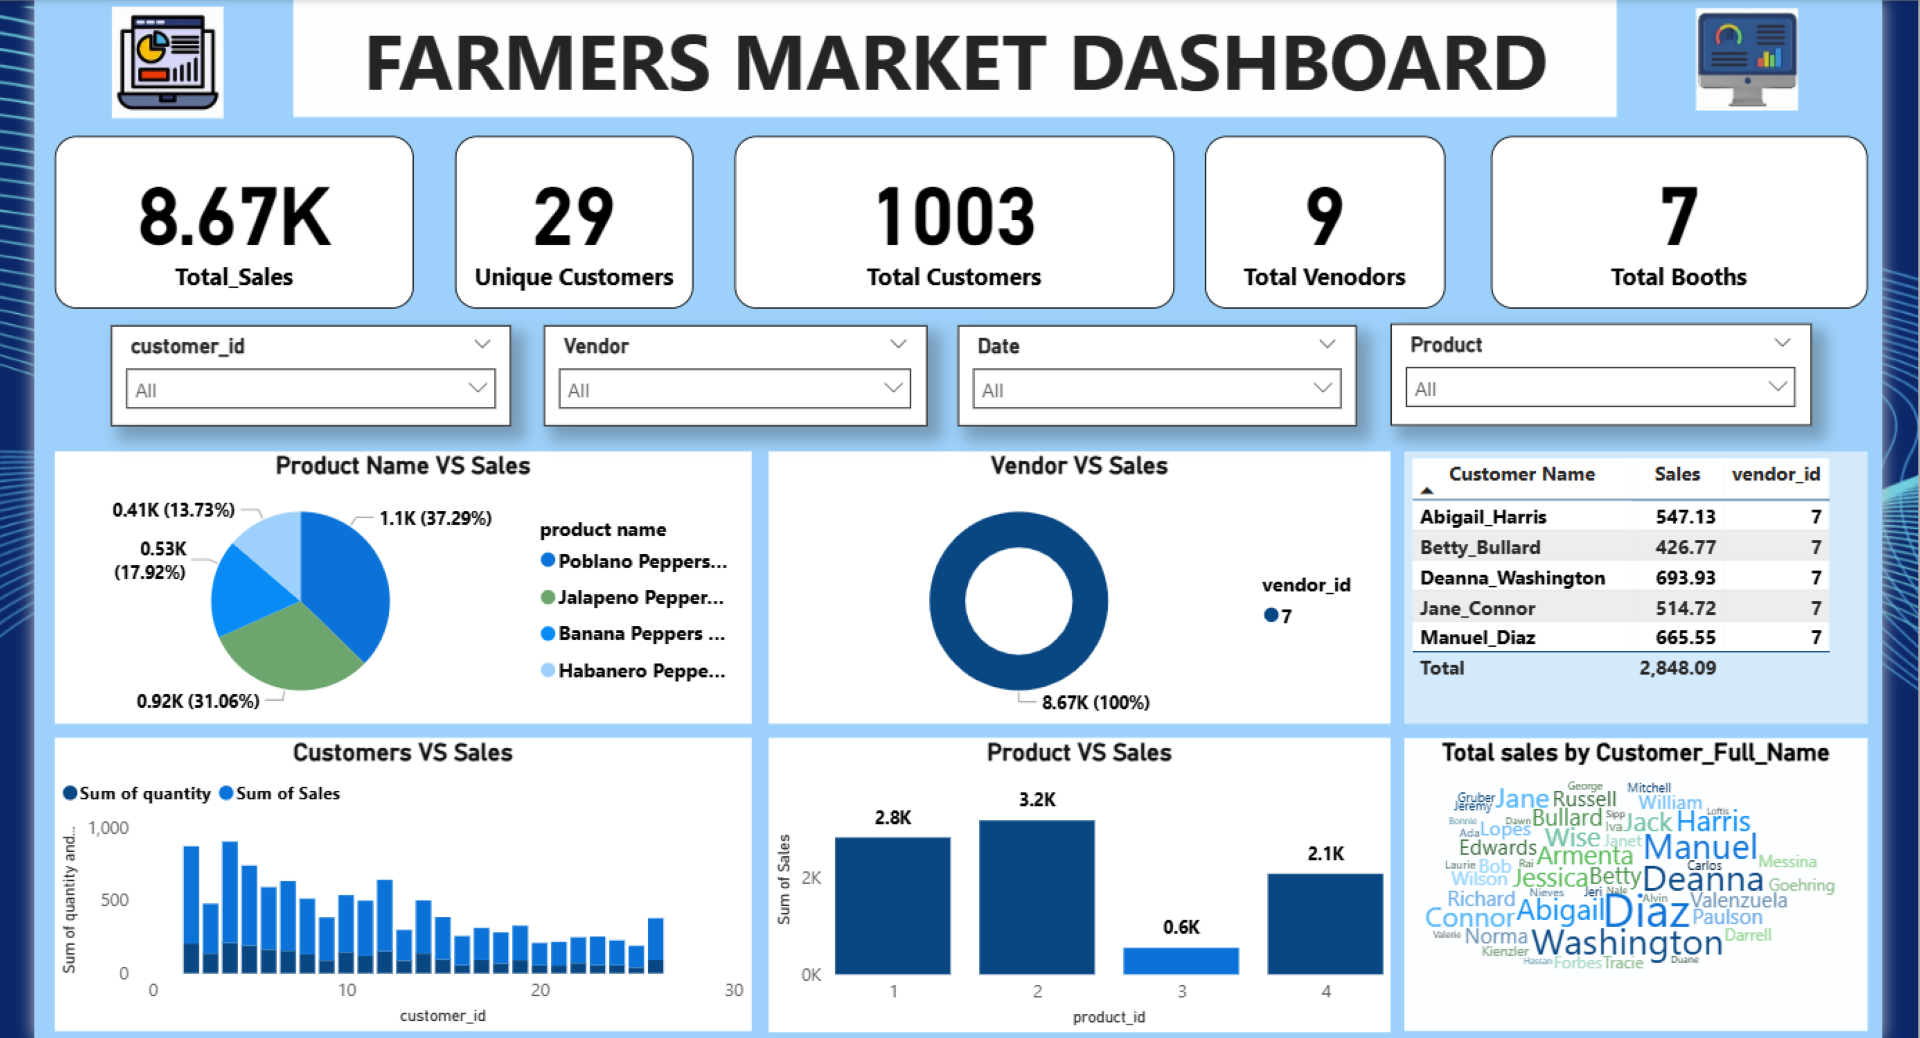

The dashboard page shown, as its layout file describes it:
{"tool":"powerbi","page":{"name":" Sales wise Analysis","canvas":[1280,720],"ordinal":1},"visuals":[{"type":"columnChart","title":"Customers VS Sales","fields":{"Y":["customer_purchases.quantity","customer_purchases.Sales"],"Category":["customer_purchases.customer_id"]},"box":[14.2,511.2,482.9,203.1],"z":0},{"type":"clusteredColumnChart","title":"Product VS Sales","fields":{"Y":["customer_purchases.Sales"],"Category":["product.product_id"]},"box":[508.9,511.2,431,204.3],"z":1000},{"type":"pieChart","title":"Product Name VS Sales","fields":{"Category":["product.product_name"],"Y":["customer_purchases.quantity"]},"box":[14.2,312.9,482.9,188.9],"z":2000},{"type":"donutChart","title":"Vendor VS  Sales","fields":{"Category":["customer_purchases.vendor_id"],"Y":["customer_purchases.Sales"]},"box":[508.9,312.9,431,188.9],"z":3000},{"type":"image","box":[44.9,0,94.5,87.4],"z":4000},{"type":"image","box":[1141.7,1.2,89.7,80.3],"z":5000},{"type":"card","fields":{"Values":["customer_purchases.Total_Sales"]},"box":[14.2,94.5,249.1,119.2],"z":6000},{"type":"card","fields":{"Values":["customer_purchases.customer_id"]},"box":[291.6,94.5,165.3,119.2],"z":7000},{"type":"card","fields":{"Values":["customer_purchases.customer_id"]},"box":[485.3,94.5,304.6,119.2],"z":8000},{"type":"card","fields":{"Values":["vendor.vendor_id"]},"box":[811.1,94.5,166.5,119.2],"z":9000},{"type":"card","fields":{"Values":["vendor_booth_assignments.booth_number"]},"box":[1009.5,94.5,260.9,119.2],"z":10000},{"type":"textbox","box":[178.9,0,917.4,81.5],"z":11000},{"type":"tableEx","fields":{"Values":["customer.Customer_Full_Name","customer_purchases.Sales","vendor.vendor_id"]},"box":[949.3,312.9,321.1,188.9],"z":12000},{"type":"slicer","fields":{"Values":["customer_purchases.customer_id"]},"box":[53.1,225.5,277.5,69.7],"z":13000},{"type":"slicer","fields":{"Values":["customer_purchases.vendor_id"]},"box":[353,225.5,265.7,69.7],"z":14000},{"type":"slicer","fields":{"Values":["vendor_inventory.market_date"]},"box":[639.9,225.5,276.3,69.7],"z":15000},{"type":"slicer","fields":{"Values":["product.product_id"]},"box":[939.8,224.3,291.6,70.8],"z":16000},{"type":"WordCloud1447959067750","title":"Total sales by Customer_Full_Name","fields":{"Category":["customer.Customer_Full_Name"],"Values":["customer_purchases.Sales"]},"box":[949.3,511.2,321.1,203.1],"z":17000}]}

Visuals, with their boxes on the page's 1280x720 design canvas (x1, y1, x2, y2). These are canvas units, not pixel positions in the 1920x1038 screenshot, which may show the page scaled, cropped or inside an application window:
"Customers VS Sales" columnChart: x1=14 y1=511 x2=497 y2=714
"Product VS Sales" clusteredColumnChart: x1=509 y1=511 x2=940 y2=716
"Product Name VS Sales" pieChart: x1=14 y1=313 x2=497 y2=502
"Vendor VS  Sales" donutChart: x1=509 y1=313 x2=940 y2=502
image: x1=45 y1=0 x2=139 y2=87
image: x1=1142 y1=1 x2=1231 y2=82
card - customer_purchases.Total_Sales: x1=14 y1=94 x2=263 y2=214
card - customer_purchases.customer_id: x1=292 y1=94 x2=457 y2=214
card - customer_purchases.customer_id: x1=485 y1=94 x2=790 y2=214
card - vendor.vendor_id: x1=811 y1=94 x2=978 y2=214
card - vendor_booth_assignments.booth_number: x1=1010 y1=94 x2=1270 y2=214
textbox: x1=179 y1=0 x2=1096 y2=82
tableEx - customer.Customer_Full_Name x customer_purchases.Sales: x1=949 y1=313 x2=1270 y2=502
slicer - customer_purchases.customer_id: x1=53 y1=226 x2=331 y2=295
slicer - customer_purchases.vendor_id: x1=353 y1=226 x2=619 y2=295
slicer - vendor_inventory.market_date: x1=640 y1=226 x2=916 y2=295
slicer - product.product_id: x1=940 y1=224 x2=1231 y2=295
"Total sales by Customer_Full_Name" WordCloud1447959067750: x1=949 y1=511 x2=1270 y2=714
